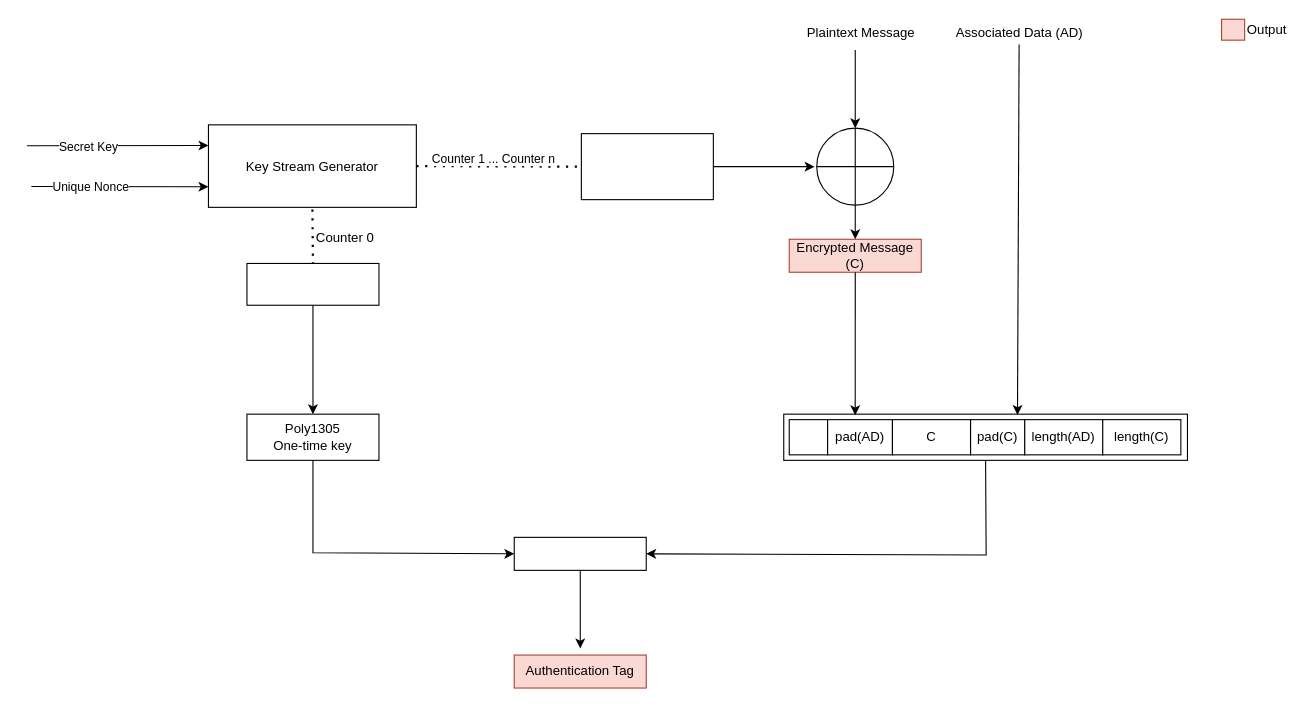
Image size: 1309x707. Some labels were removed from this diagram. Each missing label, with the centre of its shape:
AD: pixel 808 437
Keystream: pixel 646 166
Poly1305: pixel 579 553
Poly1305 Key Generator: pixel 312 283
